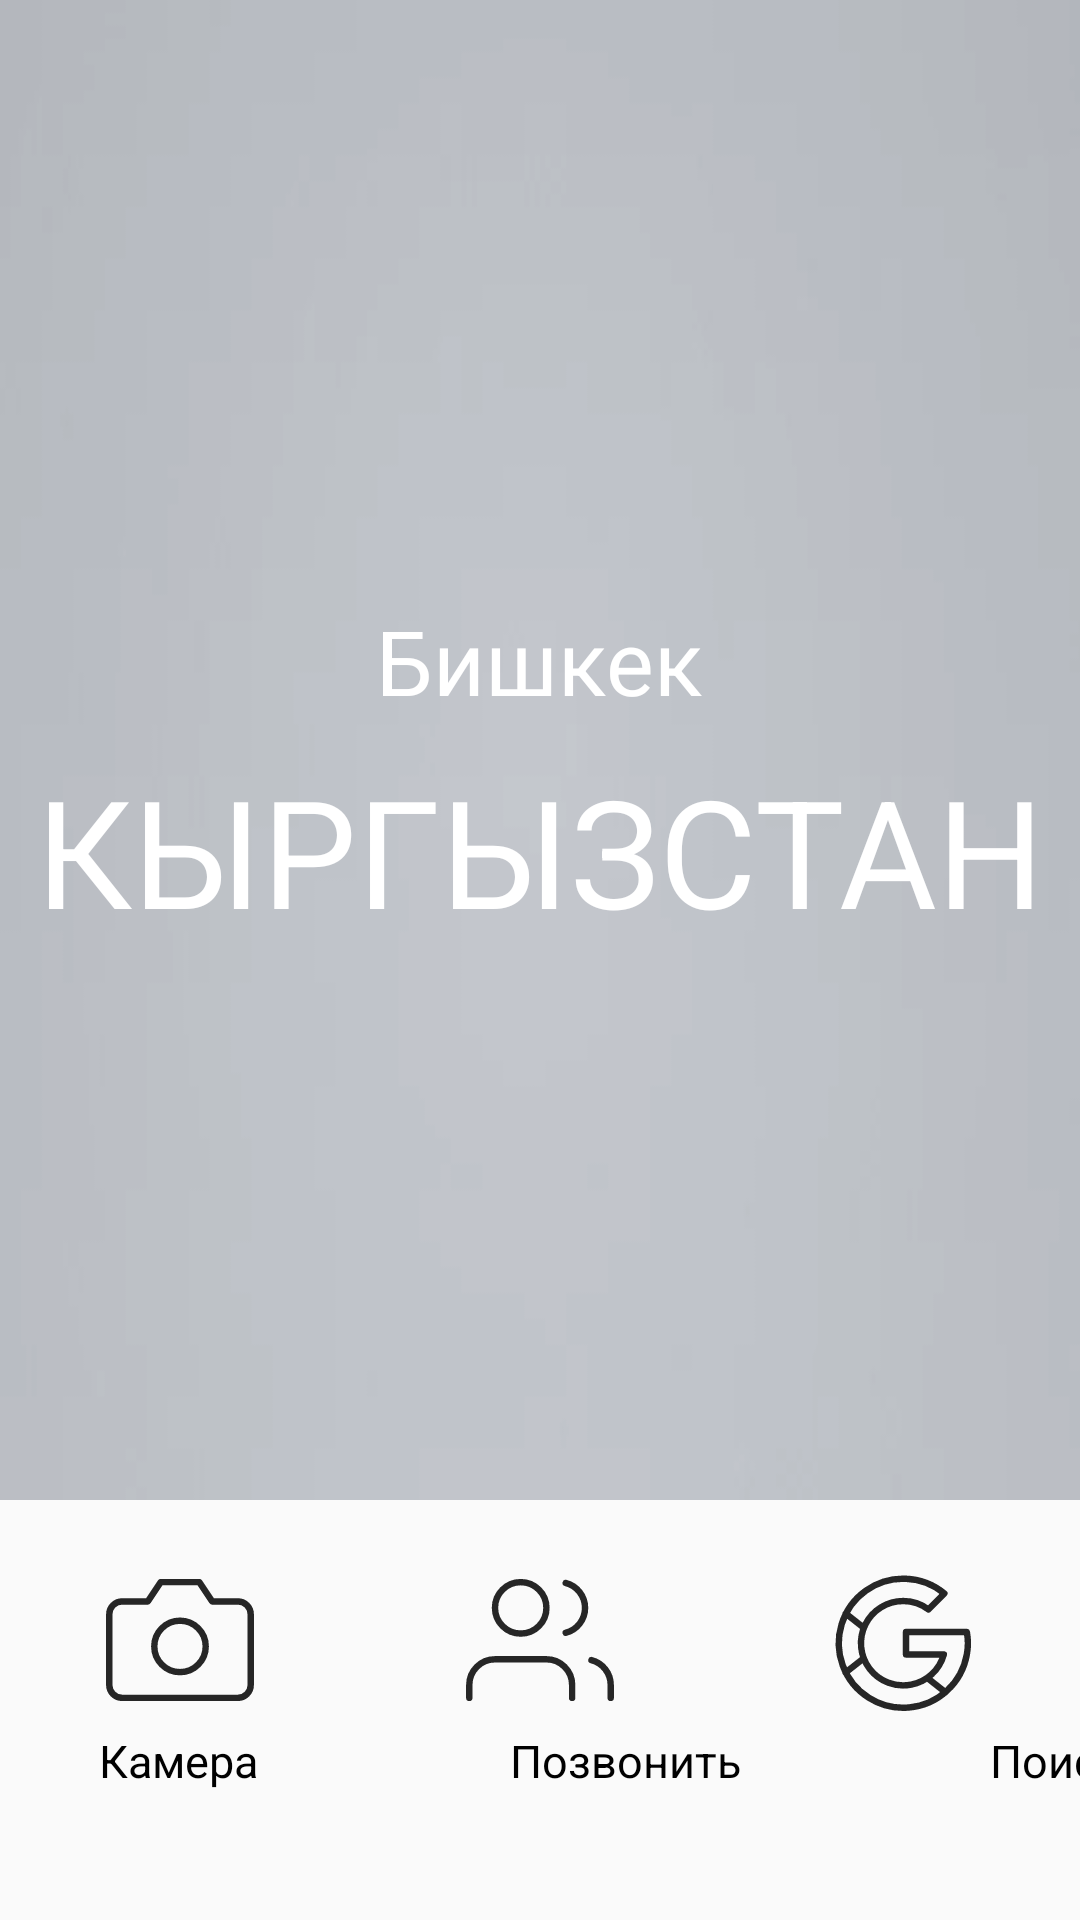

Locate icon controls on the screen. Image size 1080px×1920px, boxes as bbox(x1, y1, x2, y2).
contacts: bbox(466, 1579, 614, 1701)
